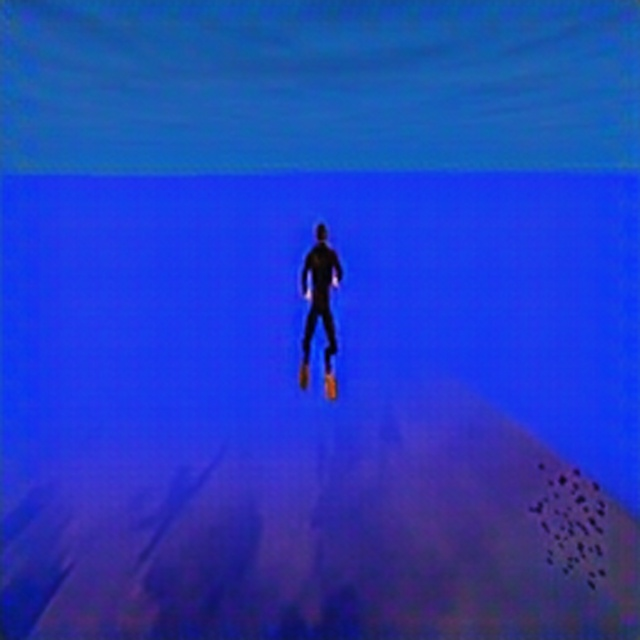diver: (295, 219, 345, 398)
